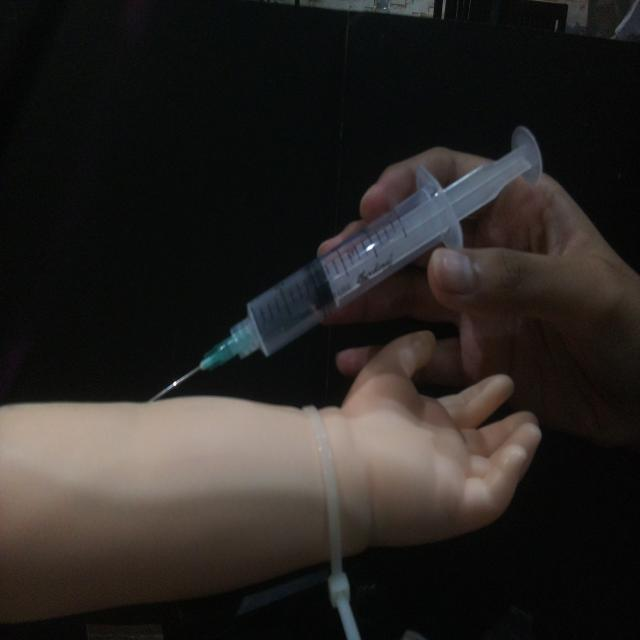20deg: (144, 121, 546, 404)
